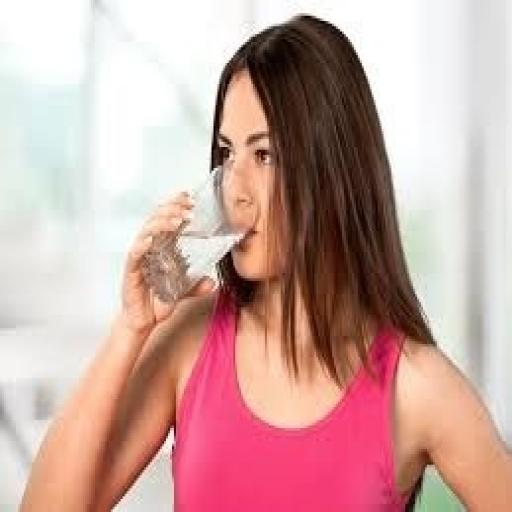drinking: (139, 162, 245, 304)
